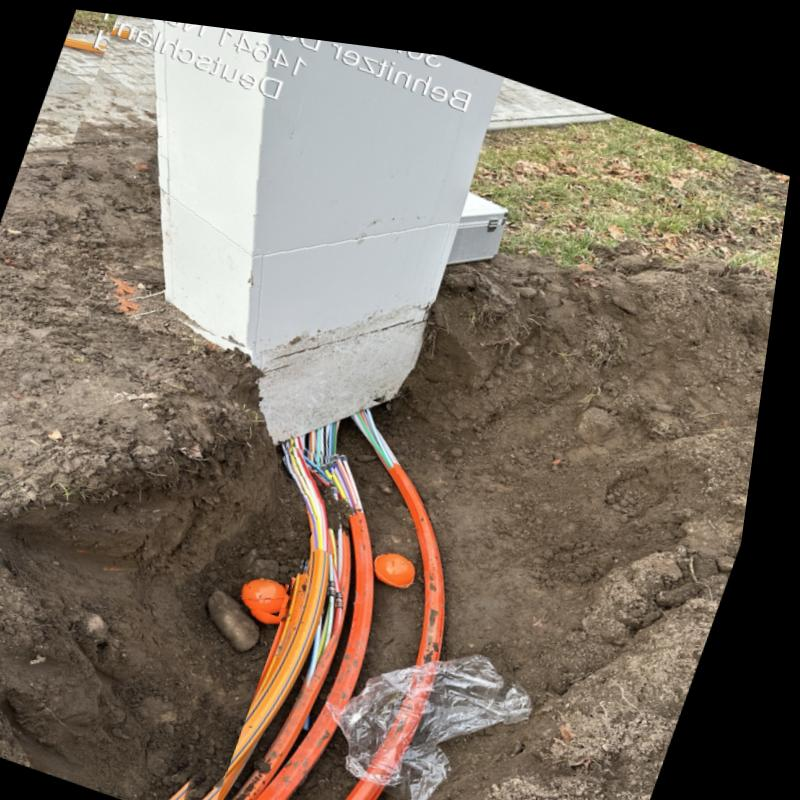Kugelmarker: (258, 570, 300, 602), (390, 543, 431, 573)
NT-Gehause: (150, 15, 504, 344)
Orang-Speednetrohrchen: (214, 450, 393, 800), (356, 399, 457, 800)
